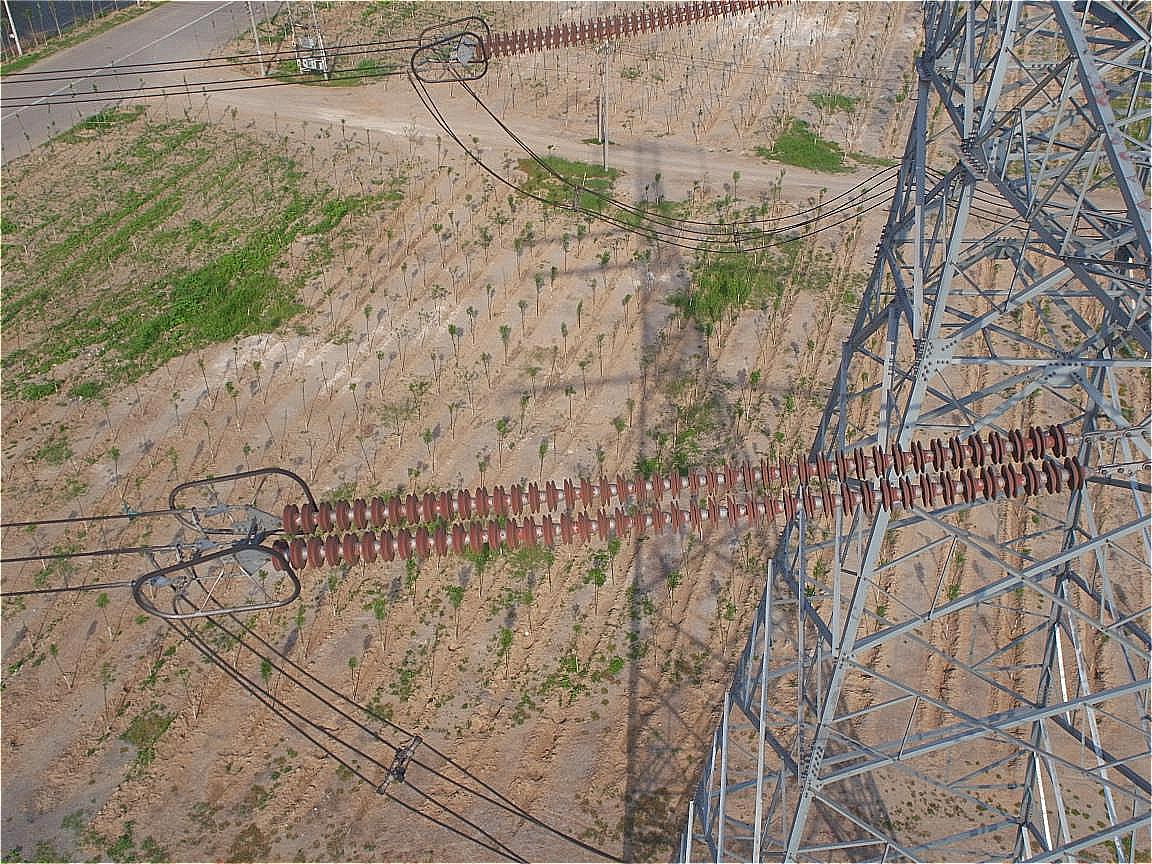insultor2: (270, 422, 1083, 572)
